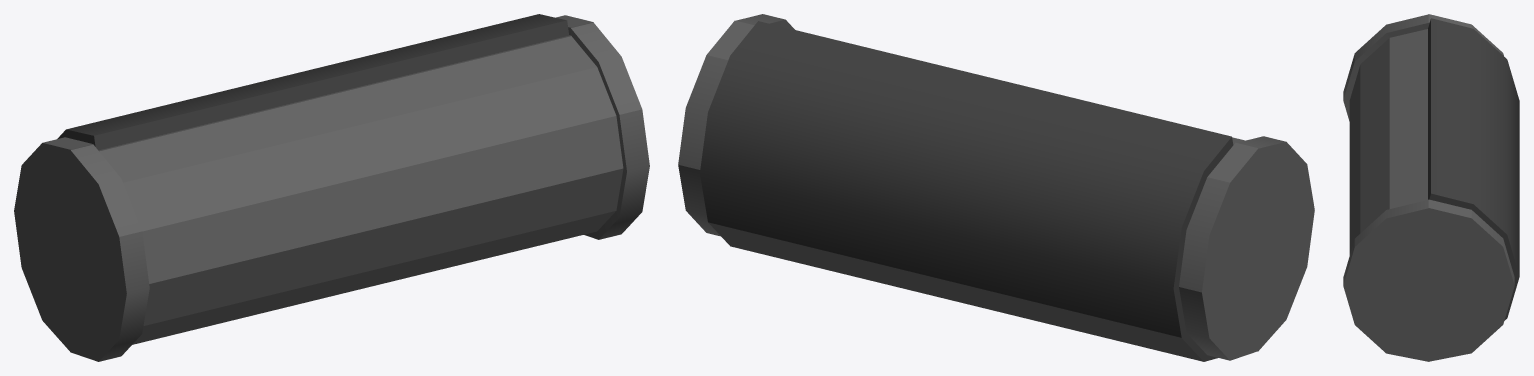
The model's file is TicketCylinder.fbx.
3 renders of one model, left to right at view 1: azimuth 30°, elevation 25°; view 2: azimuth 150°, elevation 25°; view 3: azimuth 270°, elevation 25°, orthographic. The views are drawn at different scales.
Parts seen in each view (by area): view 1: TicketCylinder_Bottom, TicketCylinder_Lid, TicketCylinder_Body; view 2: TicketCylinder_Lid, TicketCylinder_Body, TicketCylinder_Bottom; view 3: TicketCylinder_Bottom, TicketCylinder_Lid, TicketCylinder_Body.
Boxes of the visible parts, x1=… form: TicketCylinder_Bottom: x1=70, y1=22, x2=649, y2=361; TicketCylinder_Lid: x1=57, y1=14, x2=569, y2=150; TicketCylinder_Body: x1=14, y1=15, x2=593, y2=351; TicketCylinder_Lid: x1=700, y1=21, x2=1233, y2=361; TicketCylinder_Body: x1=678, y1=20, x2=1258, y2=360; TicketCylinder_Bottom: x1=736, y1=14, x2=1314, y2=351; TicketCylinder_Bottom: x1=1343, y1=14, x2=1429, y2=361; TicketCylinder_Lid: x1=1428, y1=18, x2=1519, y2=320; TicketCylinder_Body: x1=1428, y1=14, x2=1514, y2=361.
Bounding box in the file's own units: 0.5744 × 0.227 × 0.2209.
